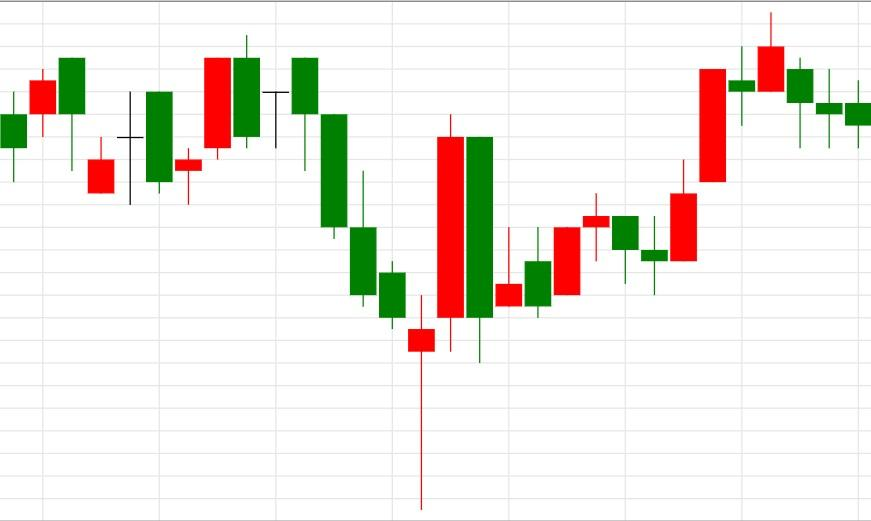bearish_engulfing_fall: (0, 57, 86, 183)
three_black_crows_fall: (174, 35, 377, 307)
